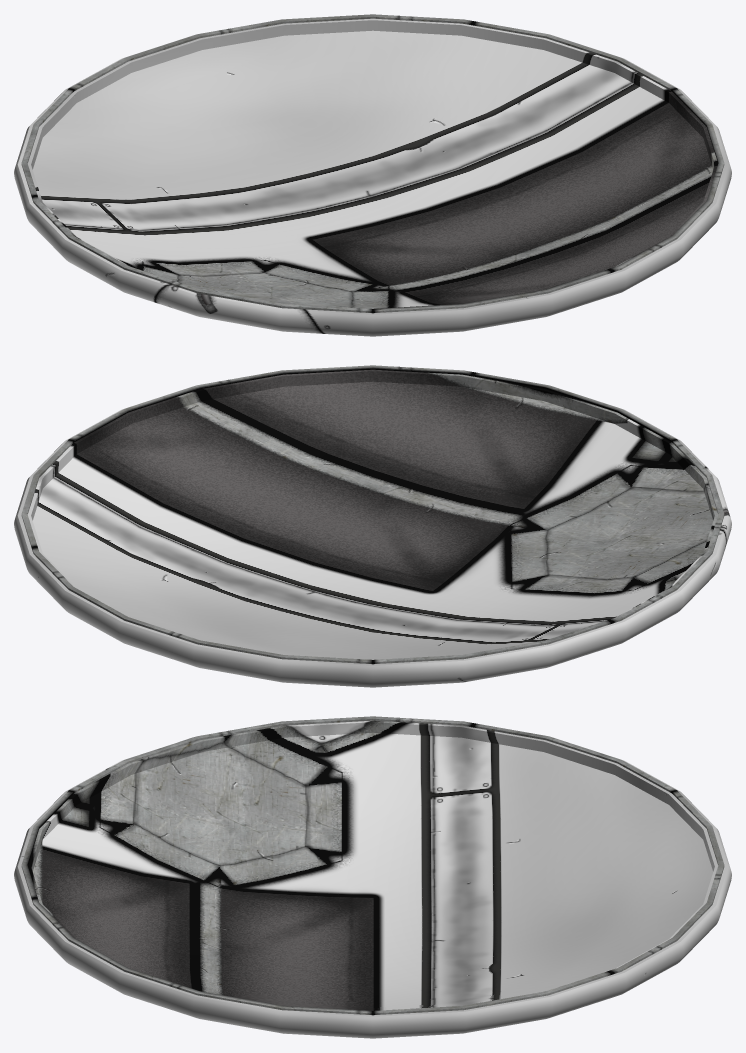
File: ConicalHeatShield.DAE
3 views of the same model, one above another, from view 1: azimuth 30°, elevation 25°; view 2: azimuth 150°, elevation 25°; view 3: azimuth 270°, elevation 25° (orthographic).
Parts seen in each view (by area): view 1: Shield; view 2: Shield; view 3: Shield.
Part boxes in pixels (left/top/right/bottom): Shield: left=14, top=14, right=731, bottom=336; Shield: left=14, top=365, right=731, bottom=687; Shield: left=14, top=716, right=731, bottom=1038.
Size of what is drawn, in the model's own units: 2.53 by 0.5337 by 2.53.
